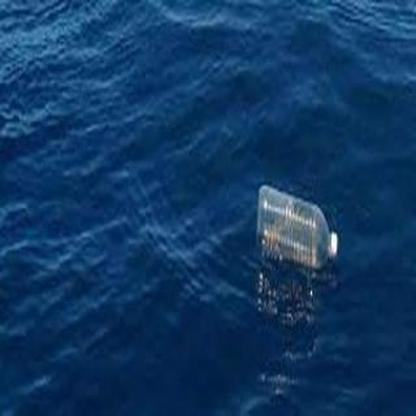plastic bottle: (256, 185, 339, 269)
